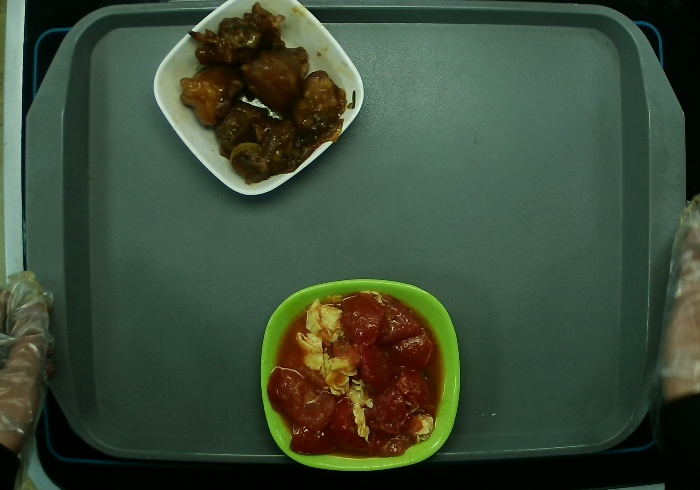SHKJ-Bai_Se_Xiao_Fang_Die: (152, 1, 365, 201)
SHKJ-Lv_Se_Cai_Die: (257, 277, 465, 478)
